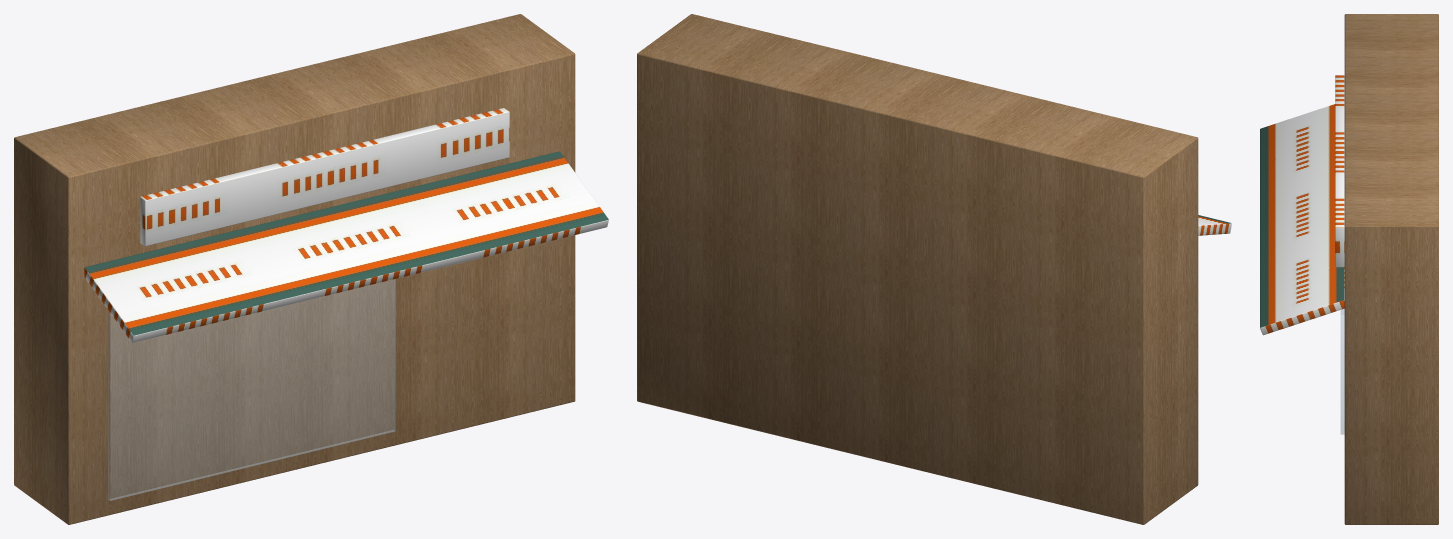
The model's file is shop-bistro-4a673c4a8ada.glb.
The picture shows the model from 3 angles, left to right: view 1: azimuth 30°, elevation 25°; view 2: azimuth 150°, elevation 25°; view 3: azimuth 270°, elevation 25°; orthographic projection. The views are drawn at different scales.
Visible parts, largest first — view 1: Shell, Mesh_Awning_shopfront_tea_bistro_facade, Display_Glass; view 2: Shell; view 3: Shell, Mesh_Awning_shopfront_tea_bistro_facade, Display_Glass.
Part boxes in pixels (<box>): Shell: <box>14,14,575,524</box>; Mesh_Awning_shopfront_tea_bistro_facade: <box>84,108,608,342</box>; Display_Glass: <box>108,279,395,500</box>; Shell: <box>637,14,1198,524</box>; Shell: <box>1344,14,1438,524</box>; Mesh_Awning_shopfront_tea_bistro_facade: <box>1260,75,1344,335</box>; Display_Glass: <box>1340,309,1344,434</box>.
Size of the model in its own units: 6.4 by 4.2 by 2.28.
Materials: 4 (3 with a texture image).
